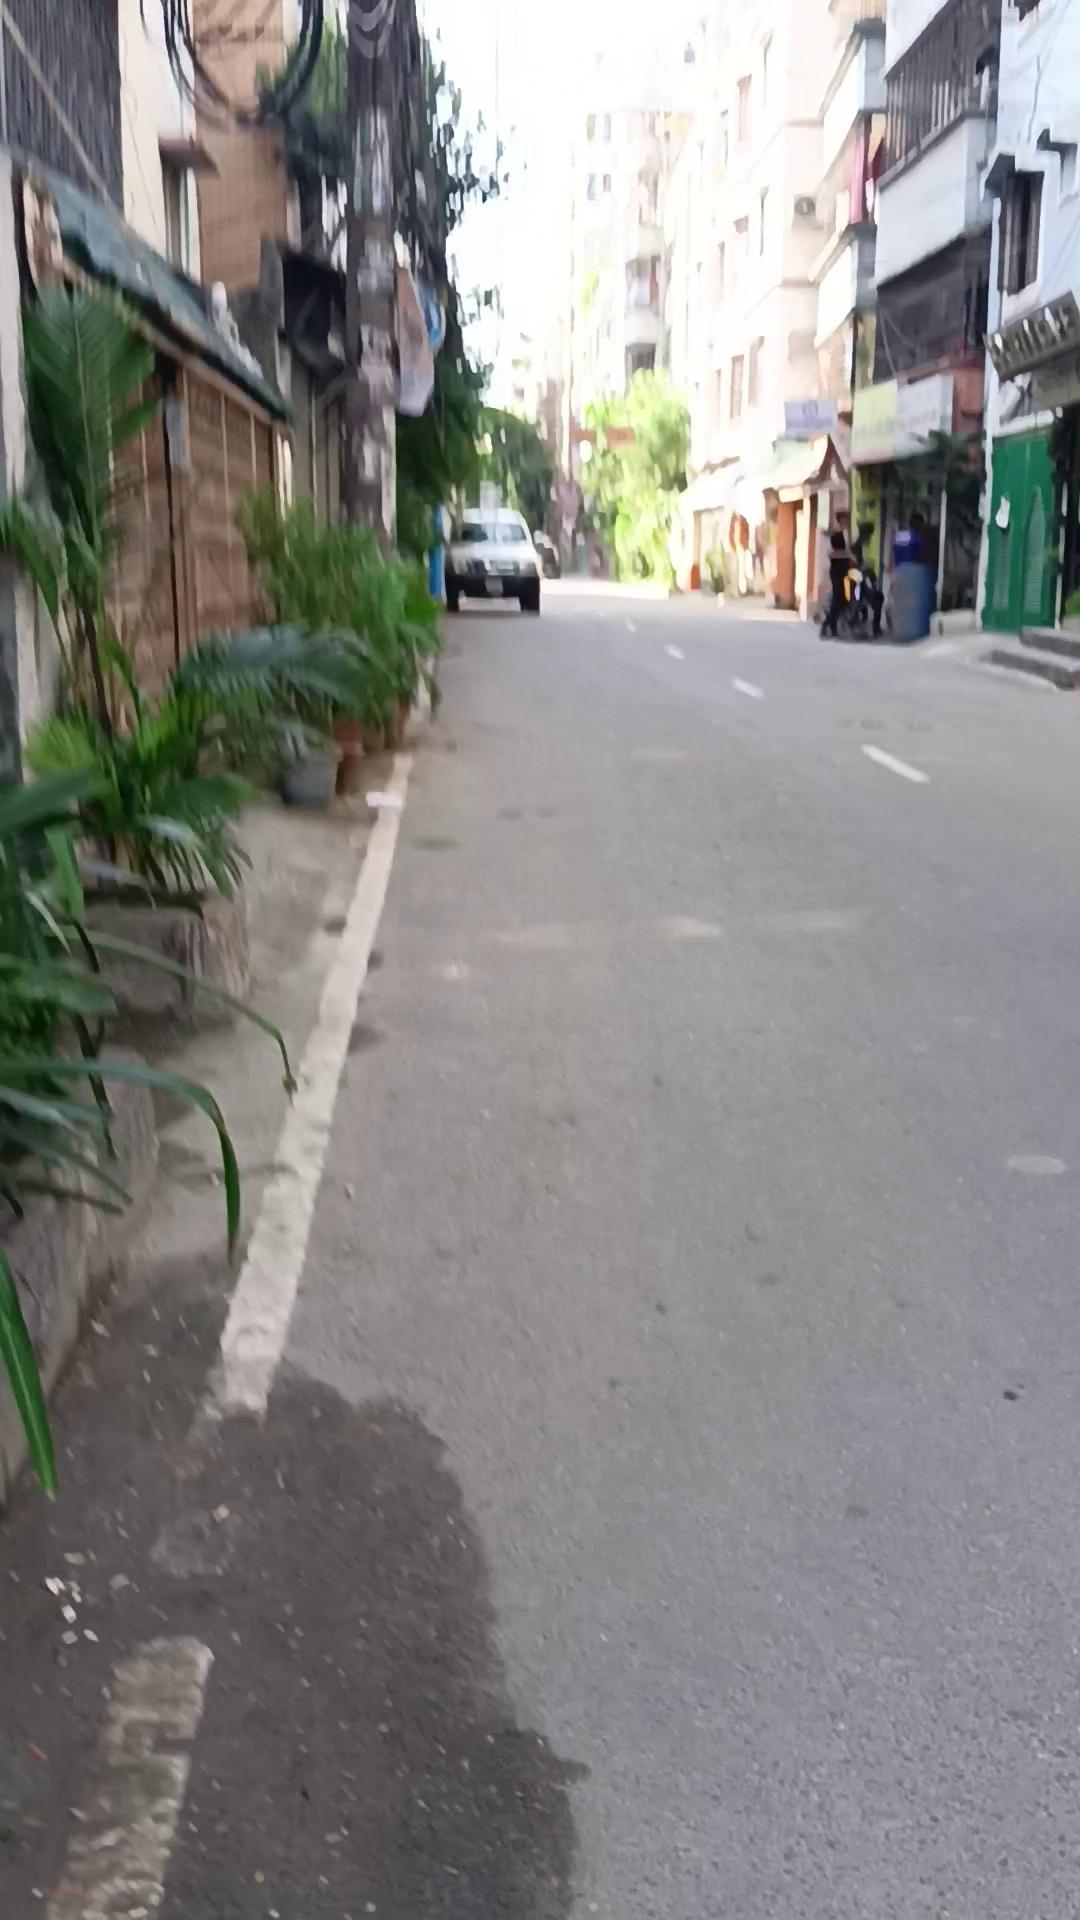Bollard: (442, 506, 543, 614)
Broken-road: (0, 1022, 162, 1542)
Cat: (885, 561, 935, 642)
Fallen-tree: (2, 272, 367, 1044)
Light-pole: (575, 364, 691, 589)
Obstacle: (0, 0, 491, 1498)
